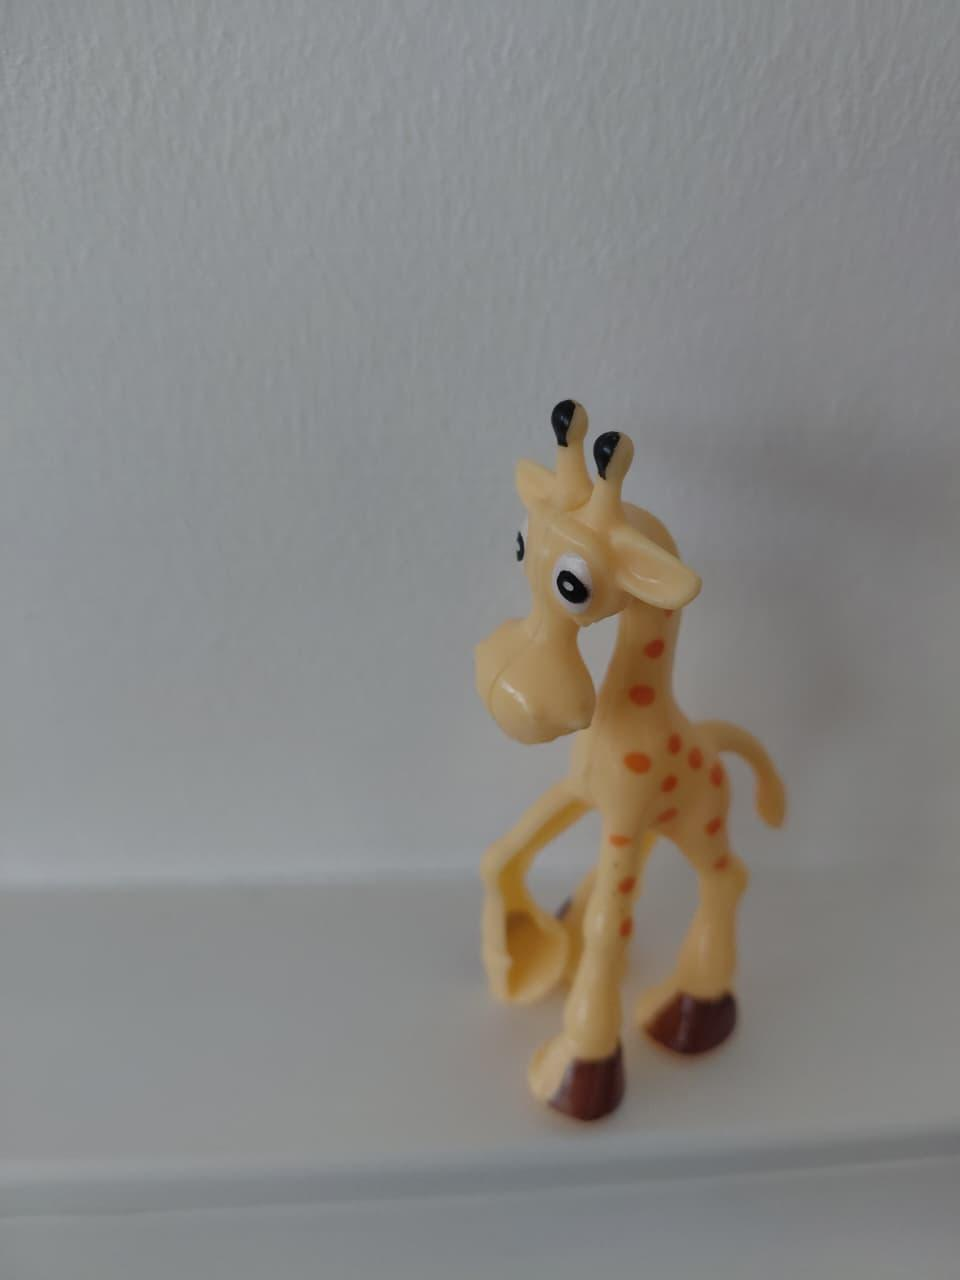giraffe: (450, 361, 826, 1125)
